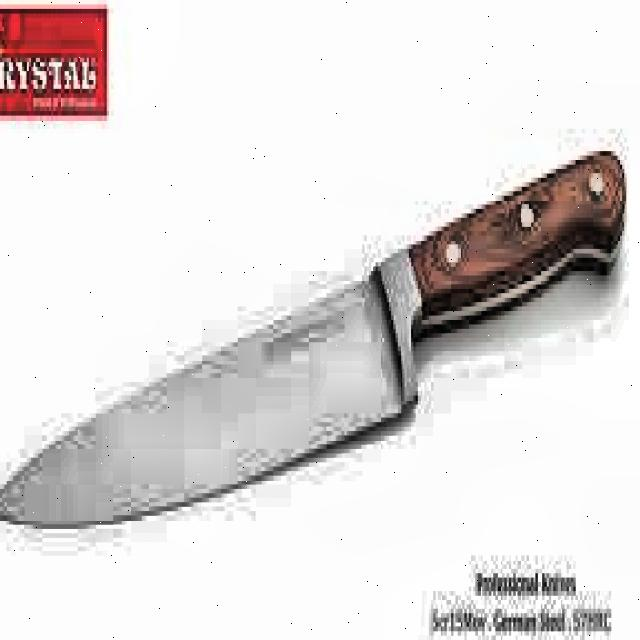knife: (0, 147, 627, 529)
